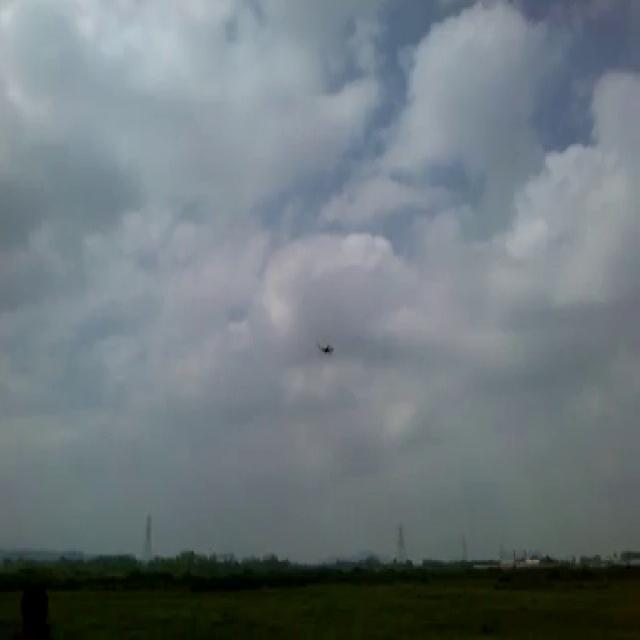drone: (316, 336, 335, 356)
